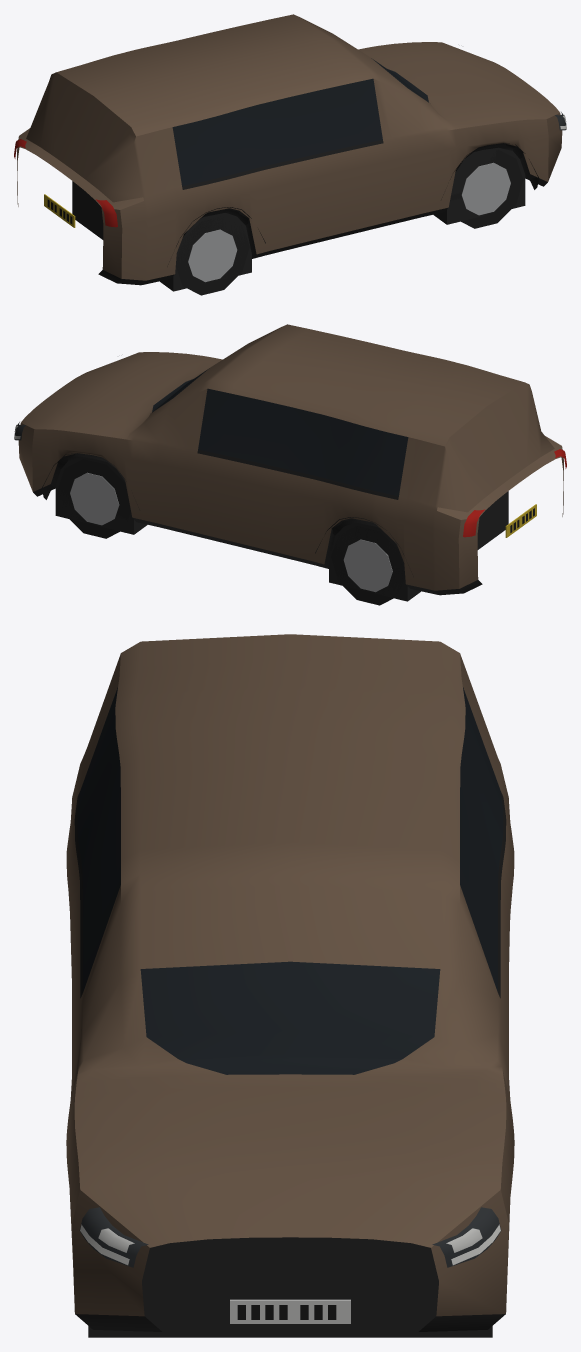
Rendered from SM_Prop_parked_car_109_LOD1.glb.
The picture shows the model from 3 angles, top to bottom: view 1: azimuth 30°, elevation 25°; view 2: azimuth 150°, elevation 25°; view 3: azimuth 270°, elevation 25°; orthographic projection. The views are drawn at different scales.
Parts seen in each view (by area): view 1: SM_Prop_parked_car_109_LOD1; view 2: SM_Prop_parked_car_109_LOD1; view 3: SM_Prop_parked_car_109_LOD1.
Boxes of the visible parts, x1,y1,x2,y2 form: SM_Prop_parked_car_109_LOD1: (14,14,566,295); SM_Prop_parked_car_109_LOD1: (14,324,566,605); SM_Prop_parked_car_109_LOD1: (66,634,514,1337).
Bounding box in the file's own units: 4.65 × 1.7 × 1.93.
